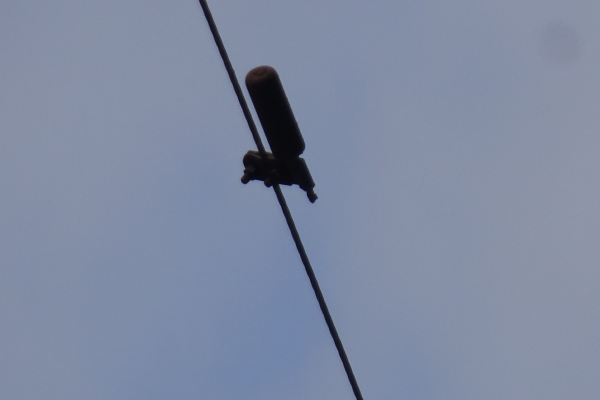damper_defect: (233, 62, 326, 211)
